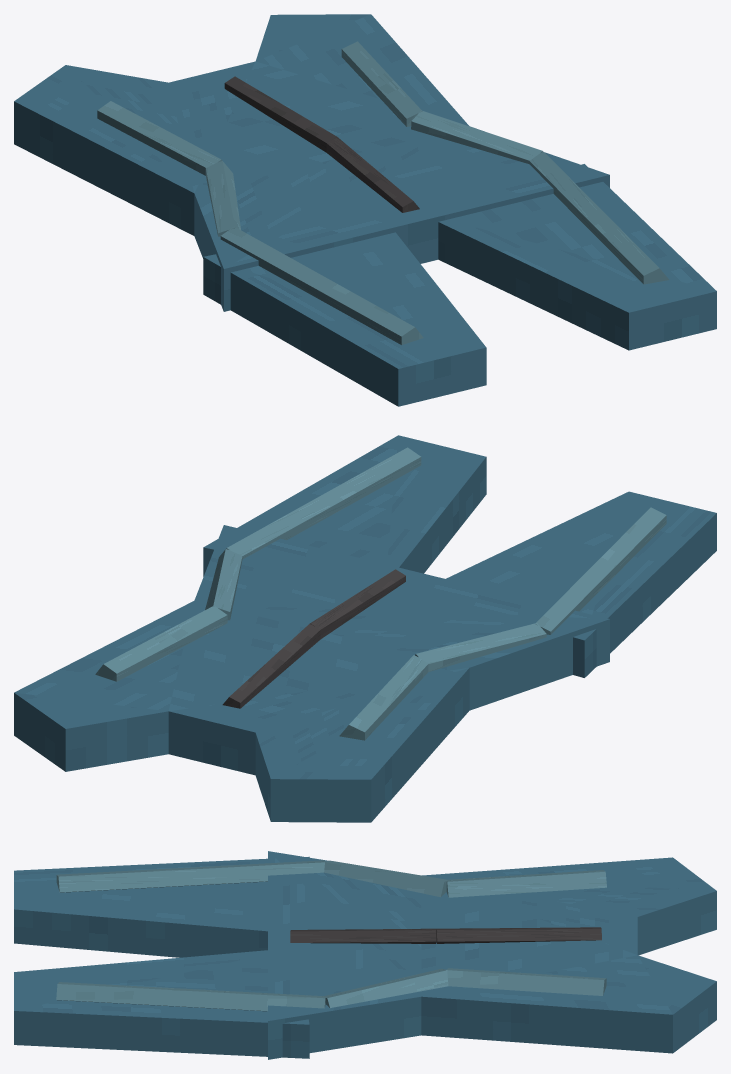
Rendered from wetsuit_spring_sleeveless.glb.
The picture shows the model from 3 angles, top to bottom: view 1: azimuth 30°, elevation 25°; view 2: azimuth 150°, elevation 25°; view 3: azimuth 270°, elevation 25°; orthographic projection. The views are drawn at different scales.
Visible parts, largest first — view 1: block_suit torso, block_integral trouser leg (×2), block_neoprene side panel 2 (×2), block_neoprene side panel 0 (×2), block_neoprene side panel 1 (×2), block_sealed front zipper 0, block_sealed front zipper 1; view 2: block_suit torso, block_integral trouser leg (×2), block_neoprene side panel 2 (×2), block_neoprene side panel 0 (×2), block_neoprene side panel 1 (×2), block_sealed front zipper 0, block_sealed front zipper 1; view 3: block_suit torso, block_integral trouser leg (×2), block_neoprene side panel 2 (×2), block_neoprene side panel 0 (×2), block_neoprene side panel 1 (×2), block_sealed front zipper 0, block_sealed front zipper 1.
Part boxes in pixels (x1,y1,x2,y2): block_suit torso: [14, 14, 609, 311]; block_integral trouser leg (×2): [203, 164, 716, 406]; block_neoprene side panel 2 (×2): [220, 151, 669, 344]; block_neoprene side panel 0 (×2): [97, 41, 422, 175]; block_neoprene side panel 1 (×2): [205, 110, 542, 236]; block_sealed front zipper 0: [224, 76, 336, 152]; block_sealed front zipper 1: [326, 137, 419, 212]; block_suit torso: [14, 525, 609, 822]; block_integral trouser leg (×2): [203, 435, 716, 677]; block_neoprene side panel 2 (×2): [226, 447, 666, 634]; block_neoprene side panel 0 (×2): [95, 605, 428, 740]; block_neoprene side panel 1 (×2): [205, 549, 546, 671]; block_sealed front zipper 0: [222, 624, 320, 708]; block_sealed front zipper 1: [310, 569, 405, 638]; block_suit torso: [268, 851, 716, 1059]; block_integral trouser leg (×2): [14, 856, 309, 1058]; block_neoprene side panel 2 (×2): [56, 860, 325, 1011]; block_neoprene side panel 0 (×2): [446, 870, 606, 995]; block_neoprene side panel 1 (×2): [324, 860, 448, 1007]; block_sealed front zipper 0: [436, 927, 601, 943]; block_sealed front zipper 1: [290, 928, 436, 943].
Bounding box in the file's own units: 0.4475 × 0.0624 × 0.7817.
1 material, 1 textured.
